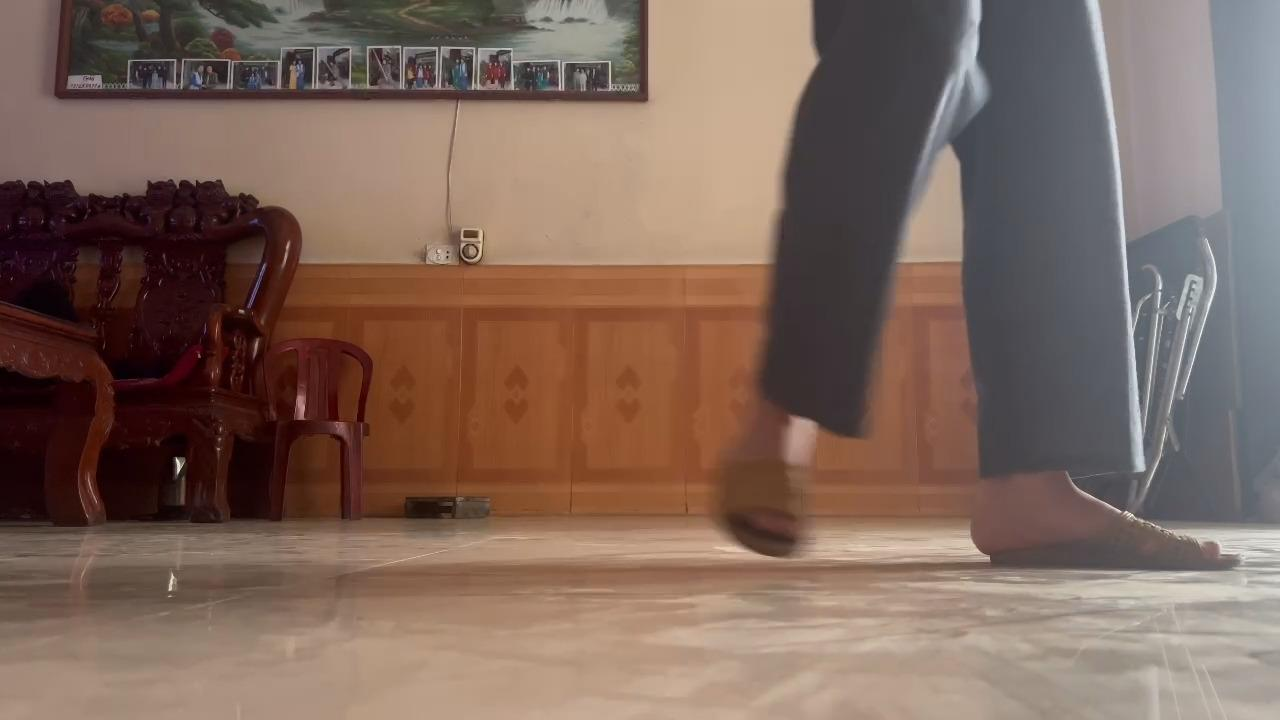no-boot: (963, 480, 1249, 576), (712, 427, 826, 565)
